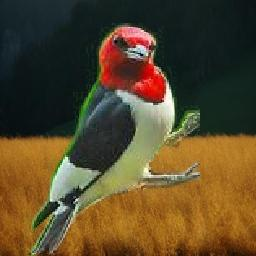Woodpecker: (22, 23, 200, 255)
